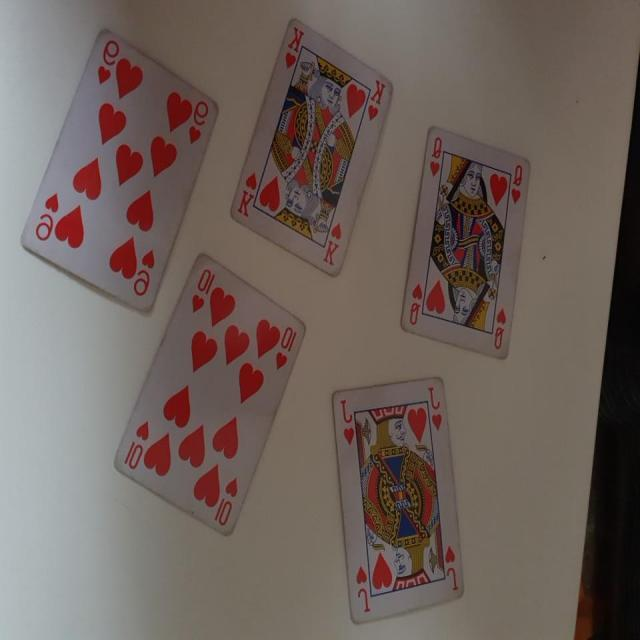10 of hearts: (112, 254, 314, 542)
9 of hearts: (23, 20, 225, 312)
jack of hearts: (326, 366, 472, 628)
king of hearts: (220, 12, 396, 284)
queen of hearts: (395, 122, 538, 364)
